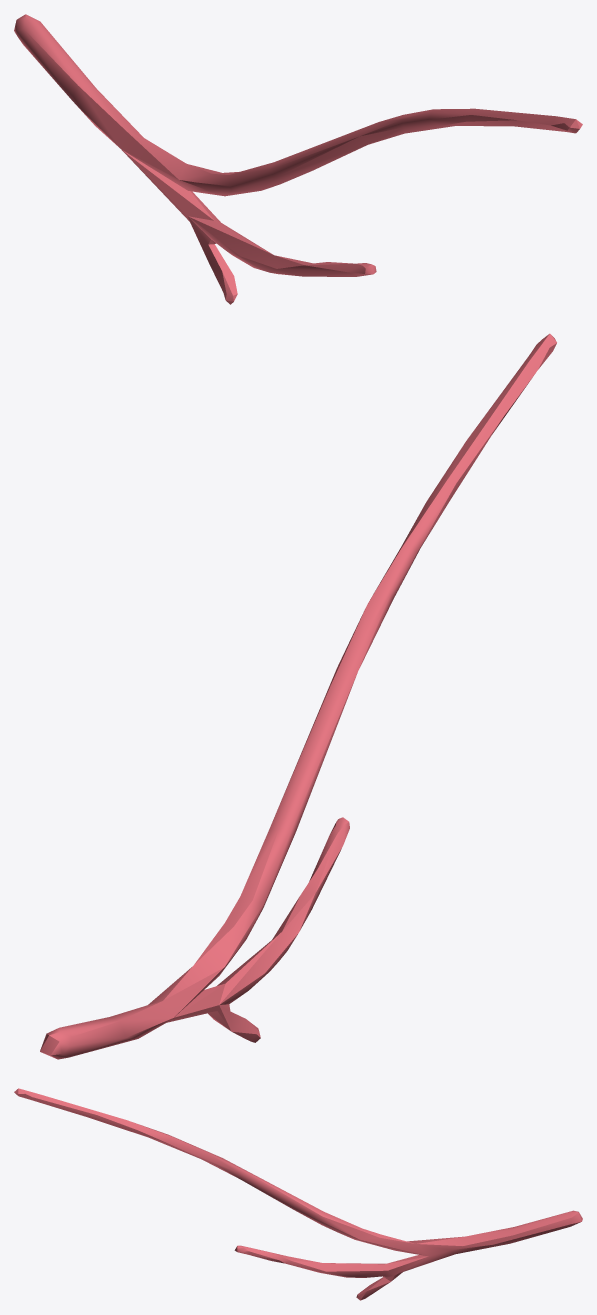
Rendered from fma49544_fj5190.glb.
3 renders of one model, top to bottom at view 1: azimuth 30°, elevation 25°; view 2: azimuth 150°, elevation 25°; view 3: azimuth 270°, elevation 25°, orthographic. The views are drawn at different scales.
Visible parts, largest first — view 1: FMA49544_FJ5190; view 2: FMA49544_FJ5190; view 3: FMA49544_FJ5190.
Boxes of the visible parts, x1,y1,x2,y2 form: FMA49544_FJ5190: [14, 14, 582, 304]; FMA49544_FJ5190: [40, 333, 556, 1059]; FMA49544_FJ5190: [14, 1088, 582, 1300].
Size of the model in its own units: 0.00279 by 0.0144 by 0.0333.
